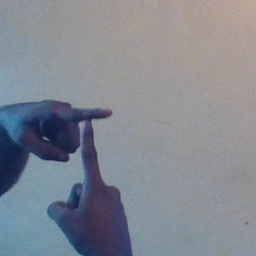T: (26, 91, 134, 221)
